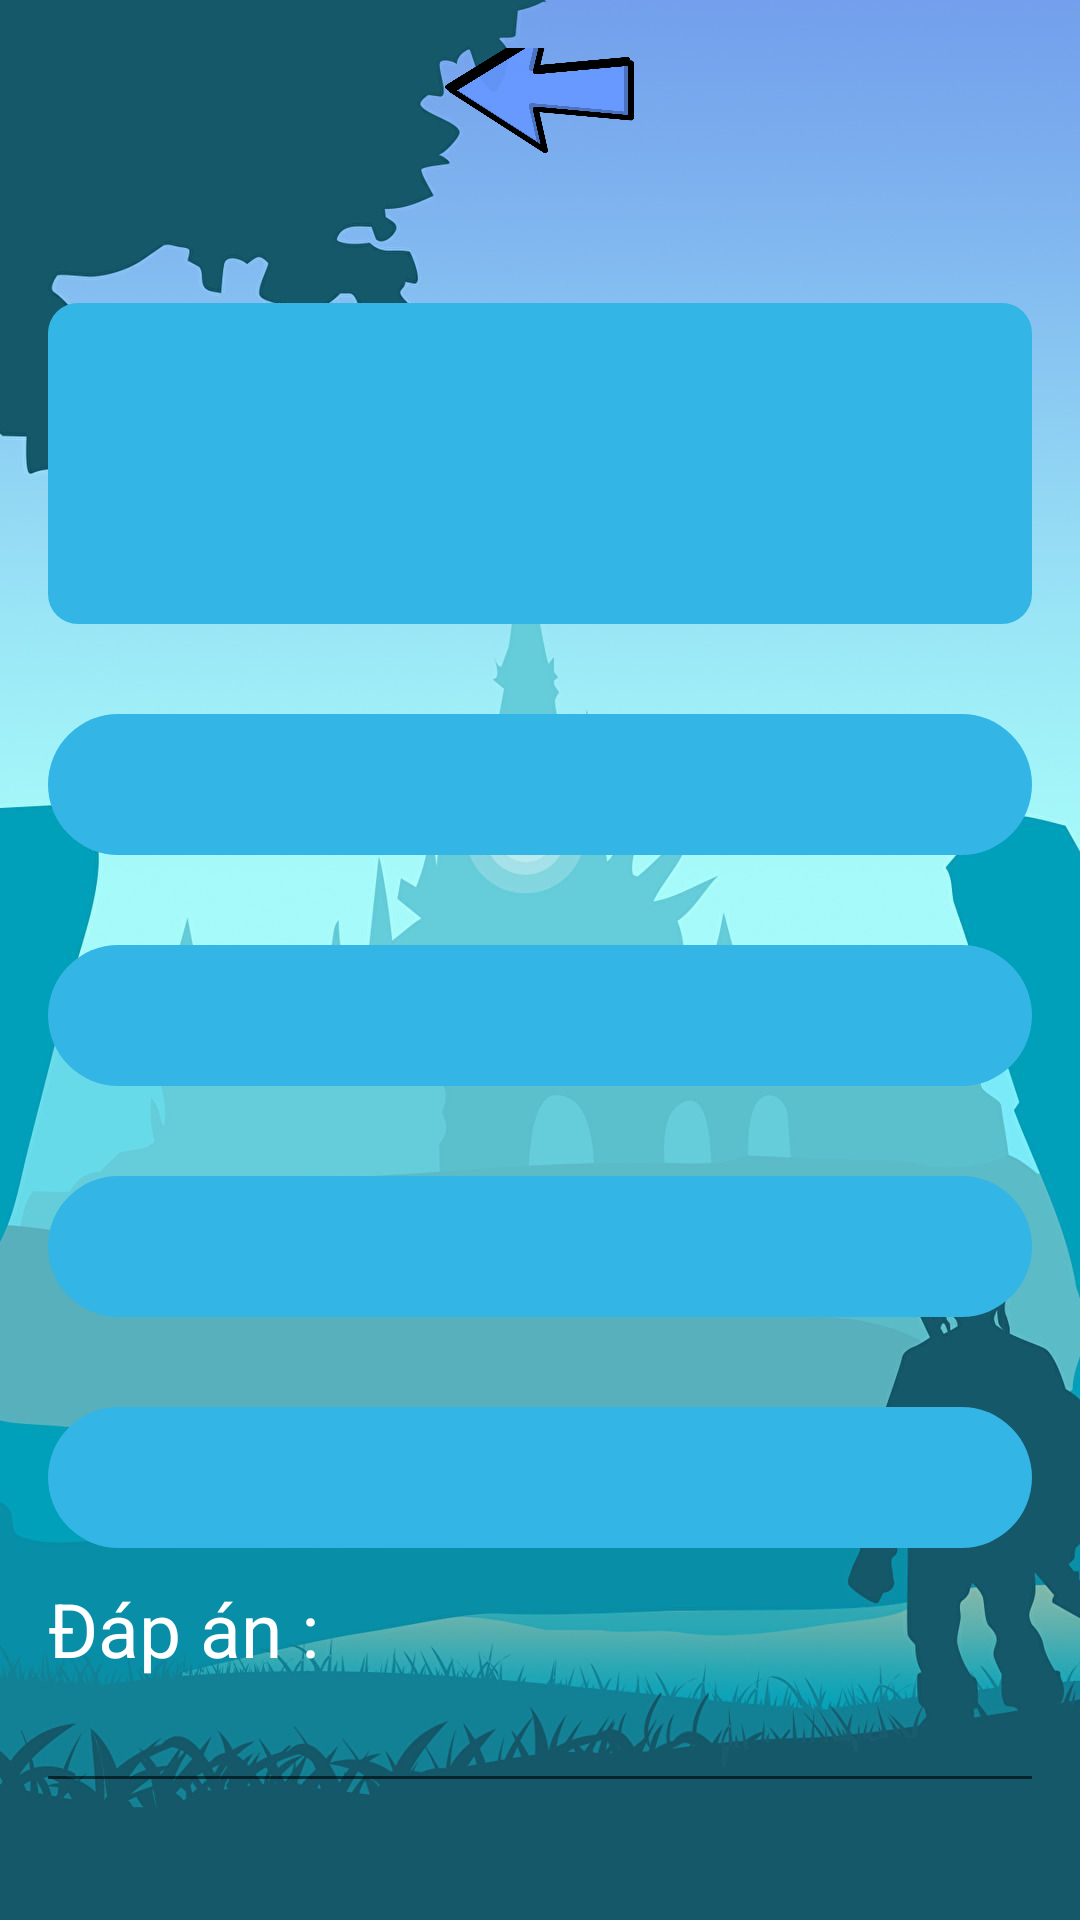

Icons on this 1080 x 1920 Android screen, each with the point to tap as point (x, y):
back: point (539, 90)
